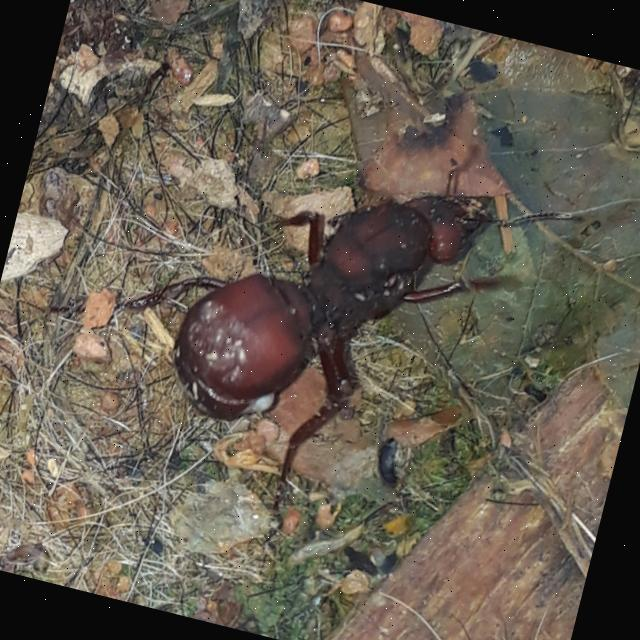Alive-Female-Dealate: (8, 70, 580, 583)
